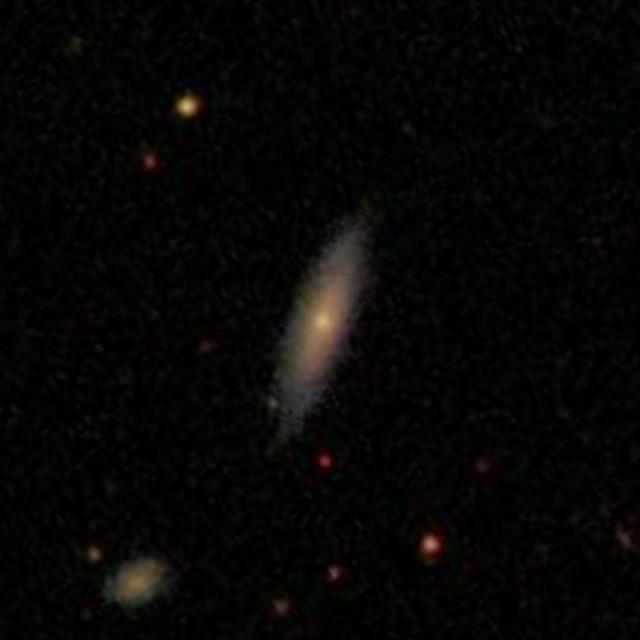galaxy: (260, 197, 372, 458), (103, 557, 180, 607), (172, 92, 207, 122), (415, 526, 445, 560), (263, 591, 295, 621), (323, 552, 347, 588), (611, 525, 638, 556), (467, 454, 496, 477), (139, 153, 163, 175), (314, 446, 335, 471), (85, 544, 107, 567)
